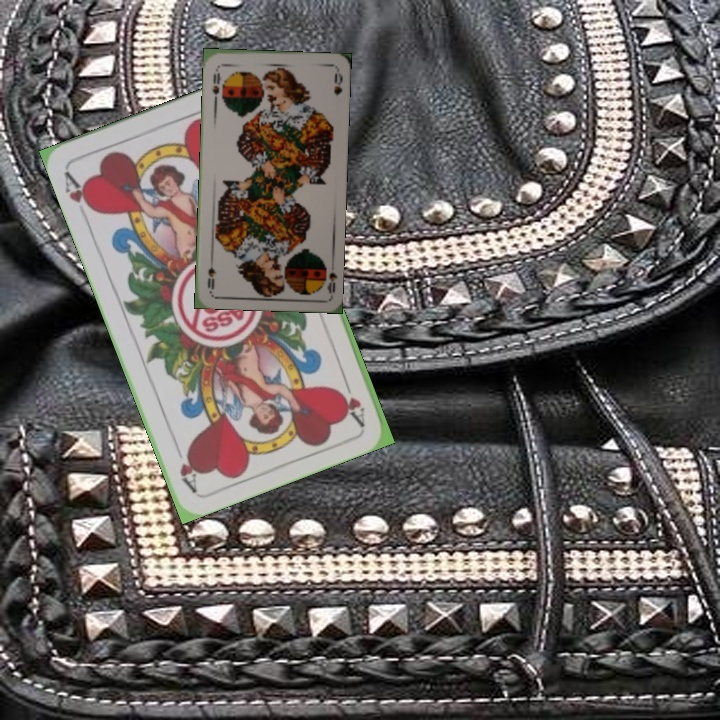HA: (60, 167, 99, 216), (338, 370, 368, 428)
SO: (319, 256, 339, 296), (209, 63, 224, 104)
